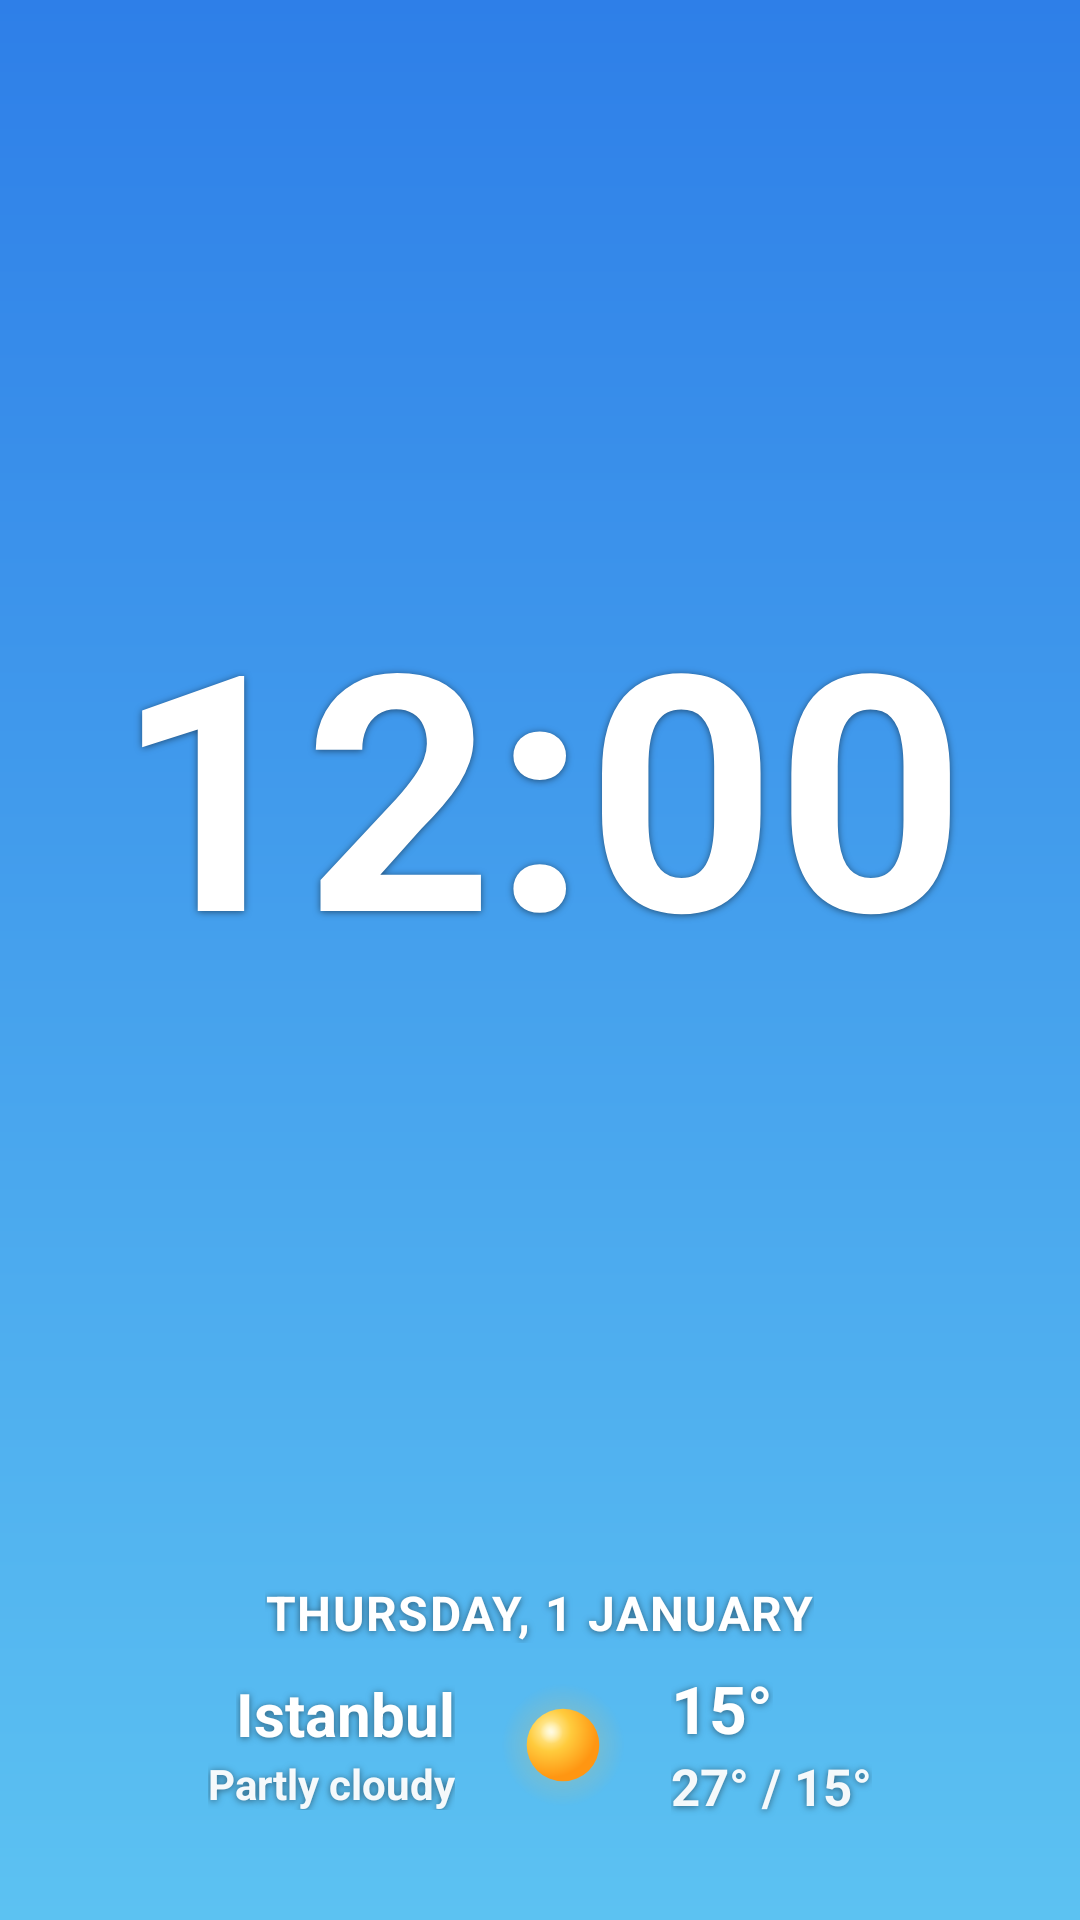

Where icons sit on this 1080px x 1920px app screen, as (x1, y1, x2, y2):
sun: (526, 1708, 600, 1782)
